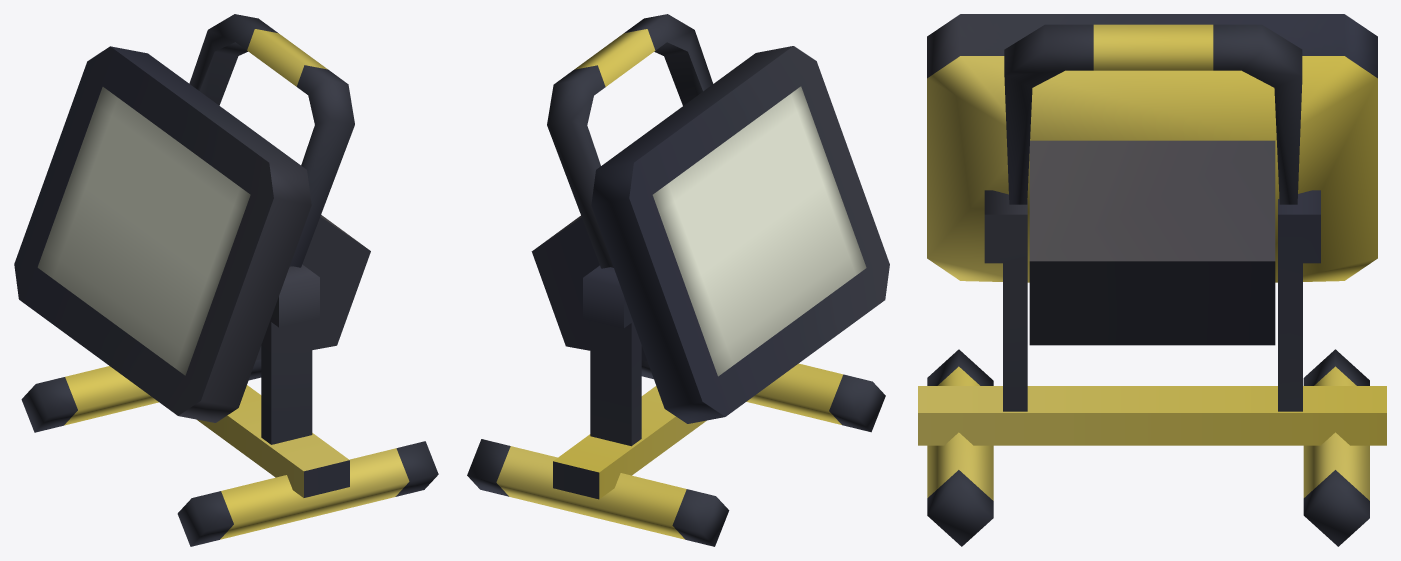
File: WorkLight_Small.fbx
The picture shows the model from 3 angles, left to right: view 1: azimuth 30°, elevation 25°; view 2: azimuth 150°, elevation 25°; view 3: azimuth 270°, elevation 25°; orthographic projection. The views are drawn at different scales.
Parts seen in each view (by area): view 1: WorkLight_Small_Holder, WorkLight_Small_Light, WorkLight_Small; view 2: WorkLight_Small_Holder, WorkLight_Small_Light, WorkLight_Small; view 3: WorkLight_Small_Holder, WorkLight_Small.
Boxes of the visible parts, x1,y1,x2,y2 form: WorkLight_Small_Holder: [14, 14, 370, 422]; WorkLight_Small_Light: [37, 87, 250, 375]; WorkLight_Small: [21, 264, 438, 546]; WorkLight_Small_Holder: [531, 14, 889, 423]; WorkLight_Small_Light: [652, 86, 866, 376]; WorkLight_Small: [467, 265, 885, 546]; WorkLight_Small_Holder: [927, 14, 1377, 345]; WorkLight_Small: [918, 190, 1386, 546].
Size of the model in its own units: 59.35 by 92.04 by 80.86.
